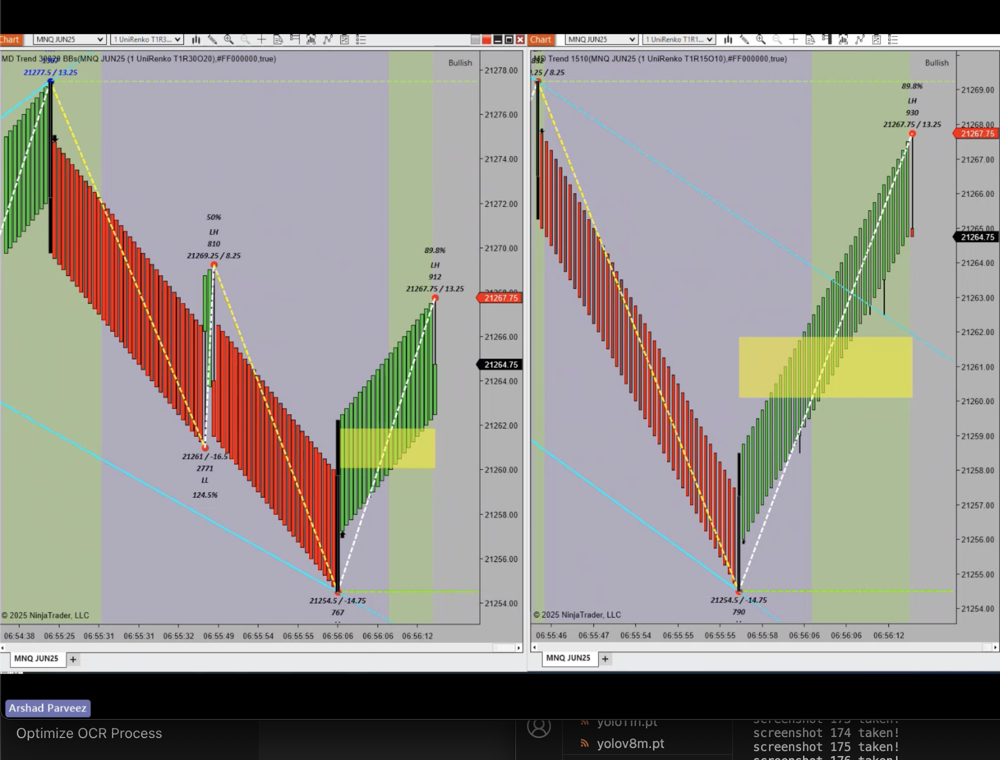LH: (900, 93, 924, 112), (200, 225, 226, 242), (423, 257, 451, 272)
LL: (191, 473, 216, 489)
